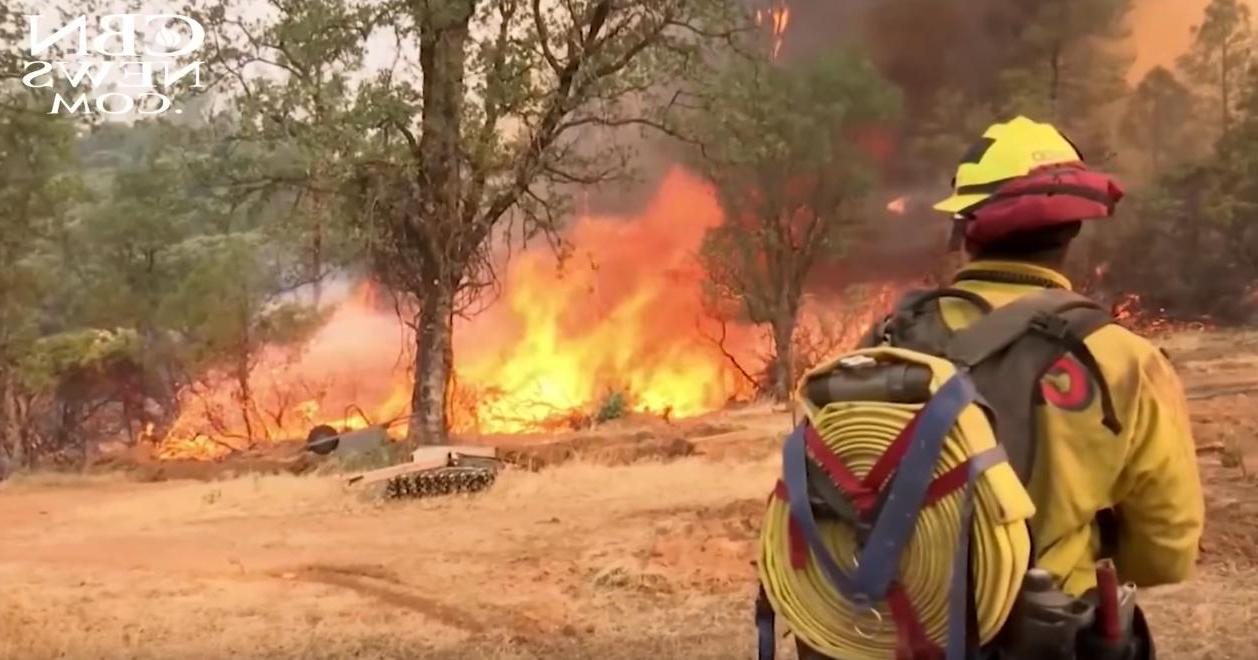Fire: (447, 154, 766, 462), (131, 357, 413, 474)
